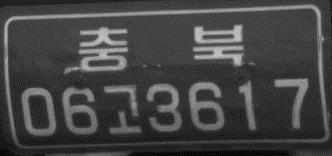0: (19, 85, 57, 139)
1: (237, 78, 257, 132)
3: (145, 81, 182, 135)
6: (60, 84, 99, 137), (186, 79, 225, 132)
7: (271, 75, 312, 131)
고: (102, 83, 142, 136)
충북_D: (79, 23, 246, 74)
